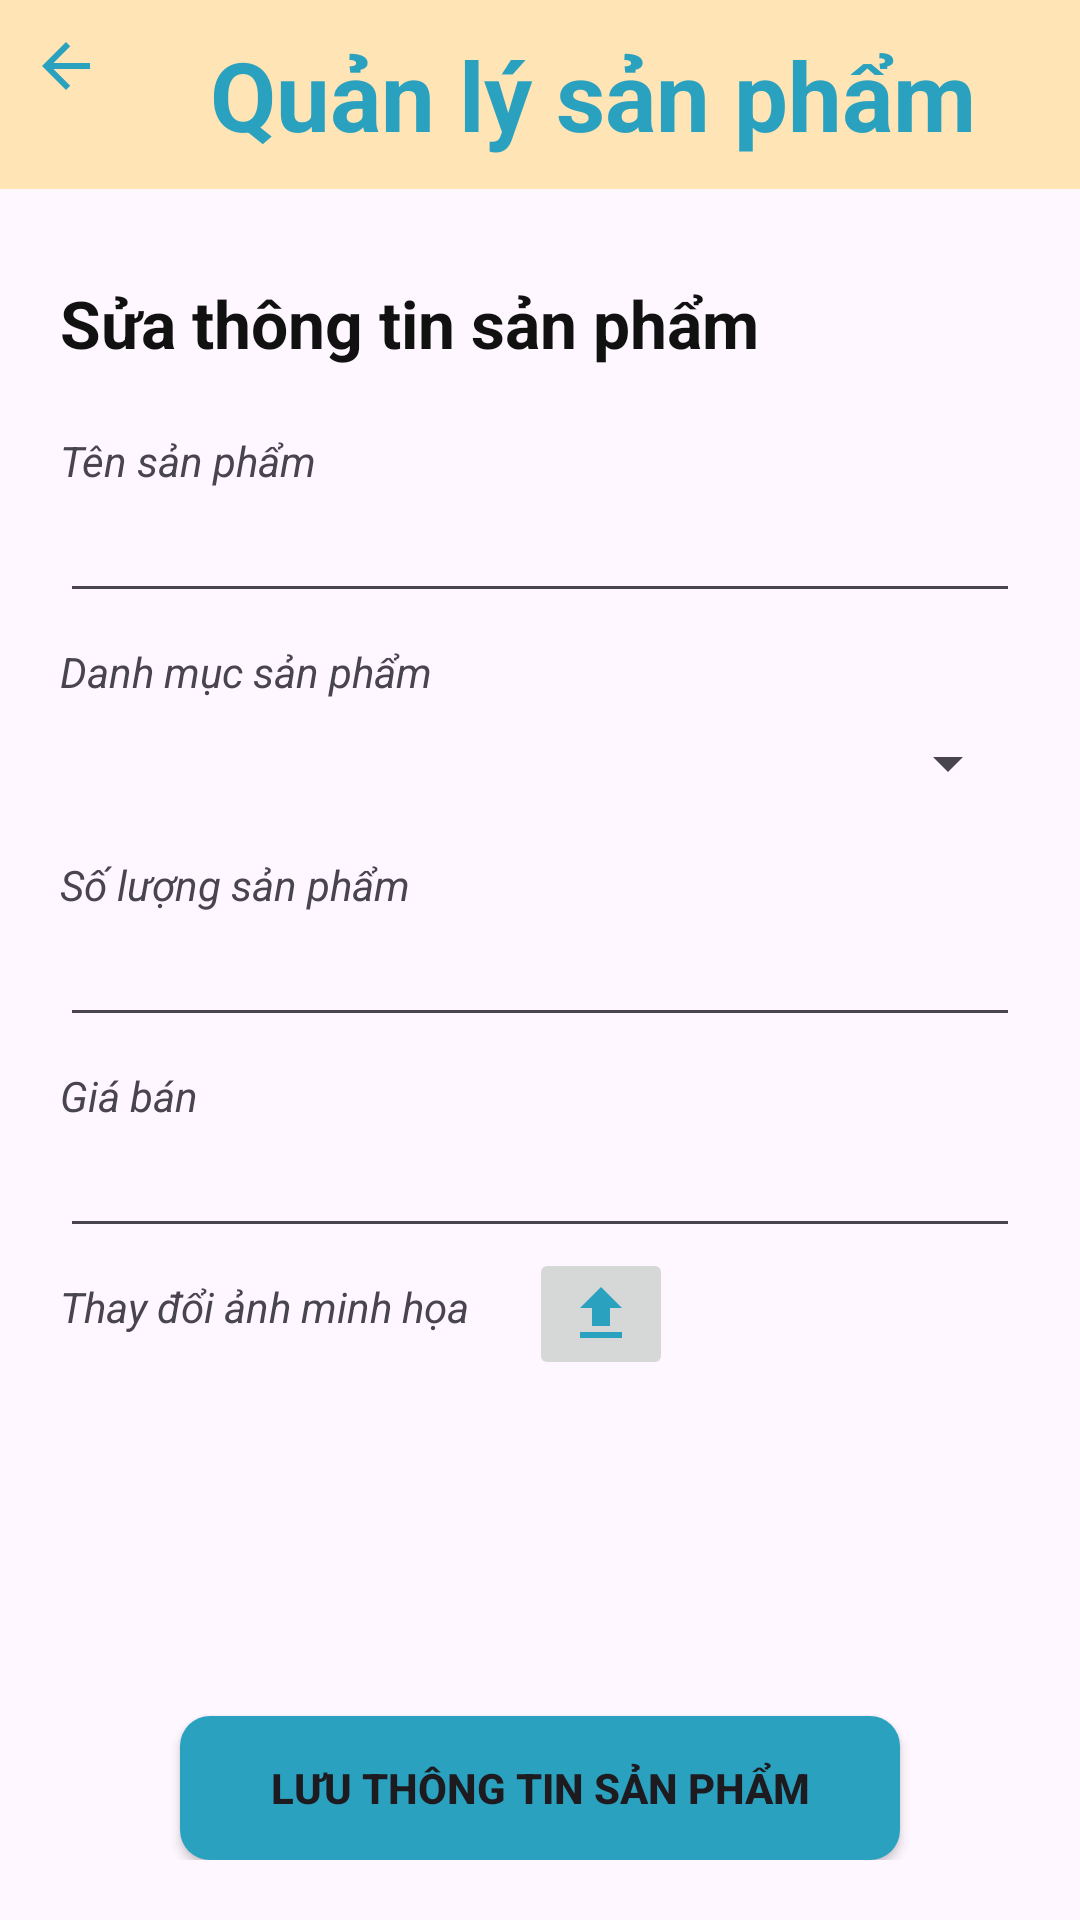

Icon bounding boxes for this 1080×1920 phone screenshot, format bbox=(x1, y1, x2, y2):
Go back: bbox=(42, 42, 90, 90)
upload: bbox=(541, 1266, 661, 1362)
